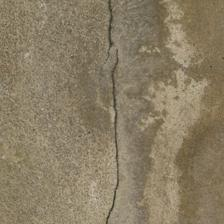Crack: (0, 0, 114, 54), (50, 92, 184, 128)
